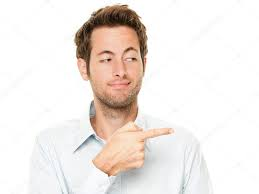hand: (85, 119, 178, 177)
